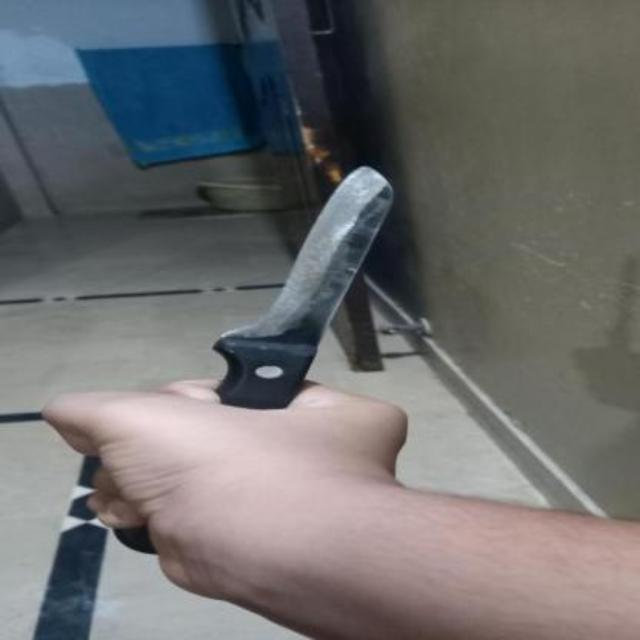Knife: (112, 166, 392, 552)
